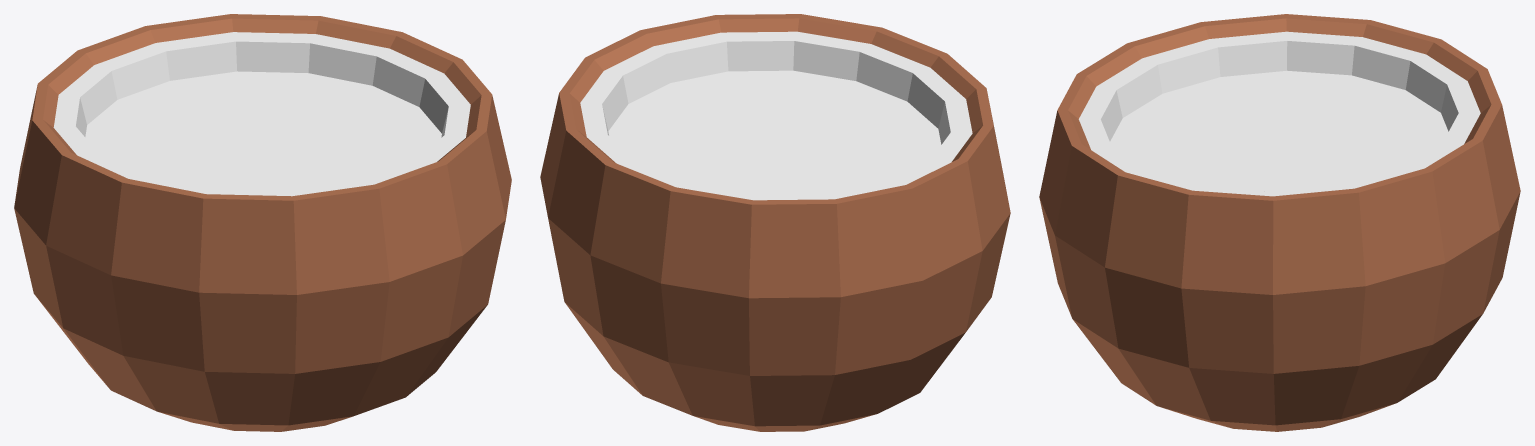
The model's file is heal_coconut.glb.
3 renders of one model, left to right at view 1: azimuth 30°, elevation 25°; view 2: azimuth 150°, elevation 25°; view 3: azimuth 270°, elevation 25°, orthographic.
Visible parts, largest first — view 1: HealCoconut-col; view 2: HealCoconut-col; view 3: HealCoconut-col.
Boxes of the visible parts, x1,y1,x2,y2 form: HealCoconut-col: [14, 14, 511, 431]; HealCoconut-col: [540, 14, 1010, 431]; HealCoconut-col: [1039, 14, 1520, 431].
Size of the model in its own units: 0.6651 by 0.4495 by 0.6553.
Materials: 1 (1 with a texture image).
